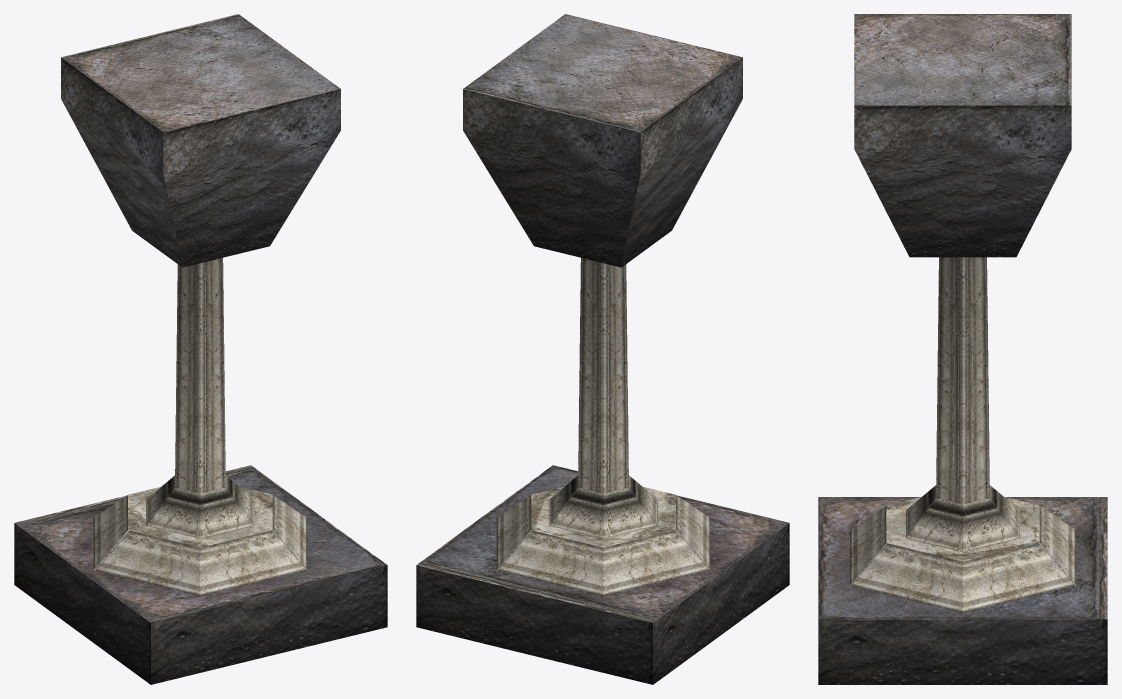
Rendered from mm9_deco_pillarstand.glb.
The picture shows the model from 3 angles, left to right: view 1: azimuth 30°, elevation 25°; view 2: azimuth 150°, elevation 25°; view 3: azimuth 270°, elevation 25°; orthographic projection. The views are drawn at different scales.
Parts seen in each view (by area): view 1: Pillarstand; view 2: Pillarstand; view 3: Pillarstand.
Part boxes in pixels (x1=…): Pillarstand: x1=14, y1=14, x2=387, y2=684; Pillarstand: x1=416, y1=14, x2=789, y2=684; Pillarstand: x1=818, y1=14, x2=1107, y2=684.
Size of the model in its own units: 0.5013 by 1.08 by 0.5013.
2 materials, 2 textured.
